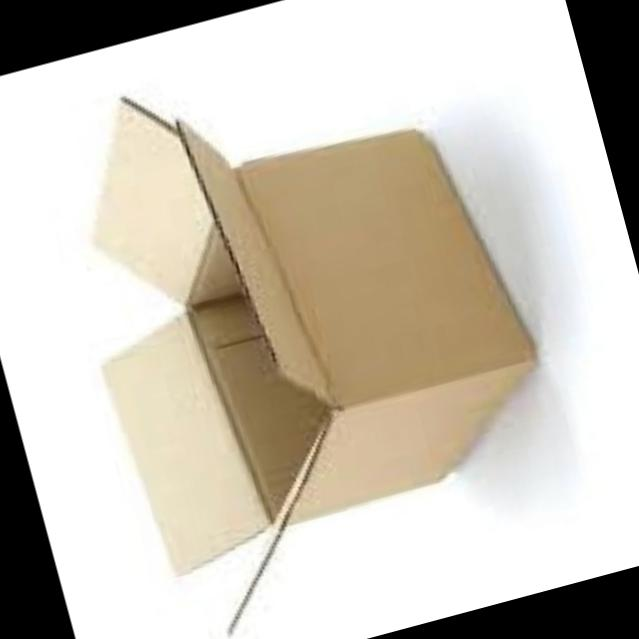cardboard paper: (93, 99, 532, 573), (100, 316, 265, 574), (92, 103, 209, 299)
